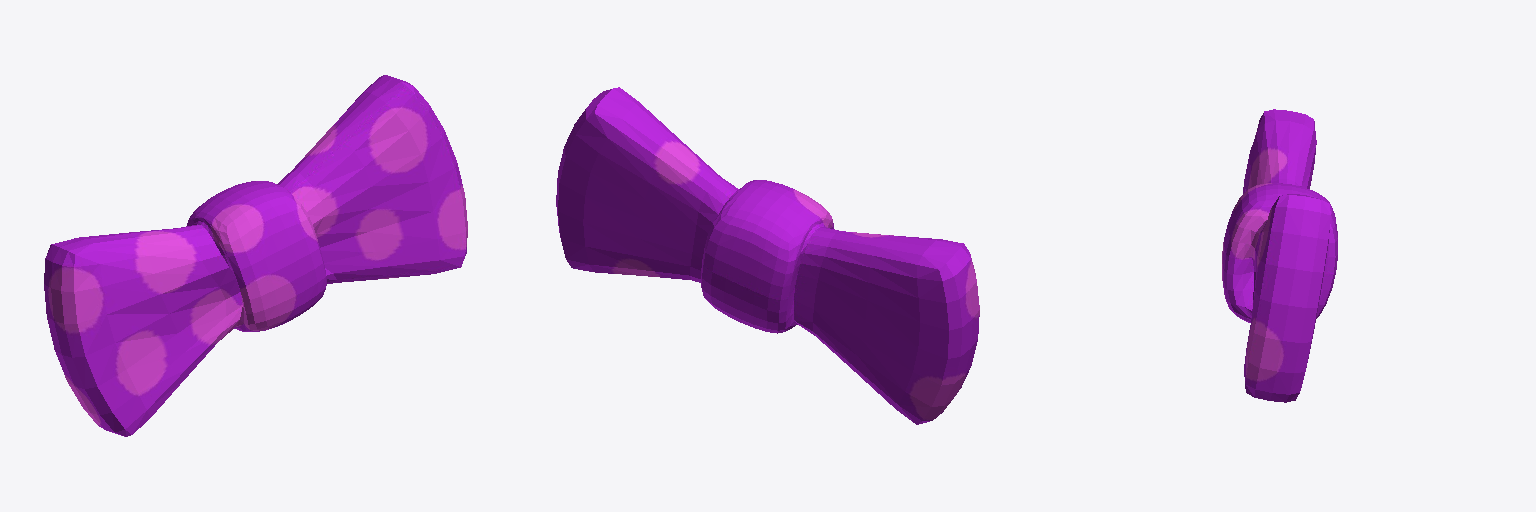
3 renders of one model, left to right at view 1: azimuth 30°, elevation 25°; view 2: azimuth 150°, elevation 25°; view 3: azimuth 270°, elevation 25°, orthographic.
Visible parts, largest first — view 1: Group3; view 2: Group3; view 3: Group3.
Boxes of the visible parts, box(x1,y1,x2,y2) form: Group3: box(44, 75, 467, 436); Group3: box(556, 87, 979, 424); Group3: box(1222, 109, 1337, 402).
Size of the model in its own units: 5.28 by 3.33 by 1.31.
Materials: 1 (1 with a texture image).